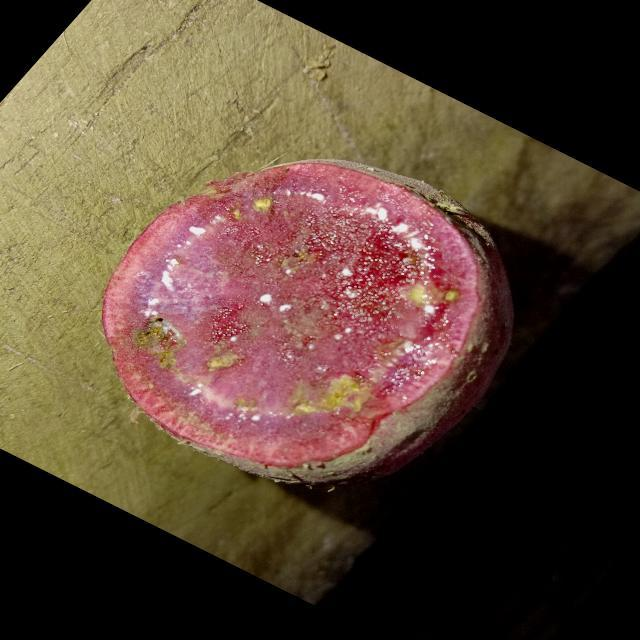Sick Sweet Potato_Tuber Rot: (103, 160, 512, 485)
